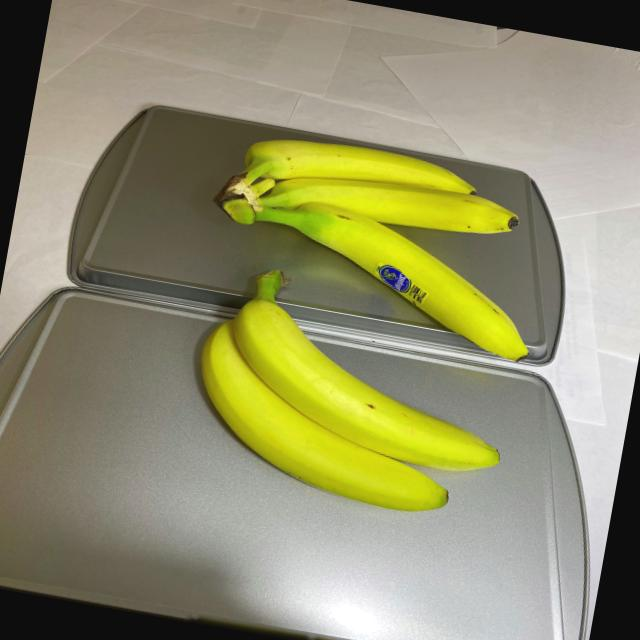banana: (170, 258, 526, 531), (188, 123, 564, 369)
